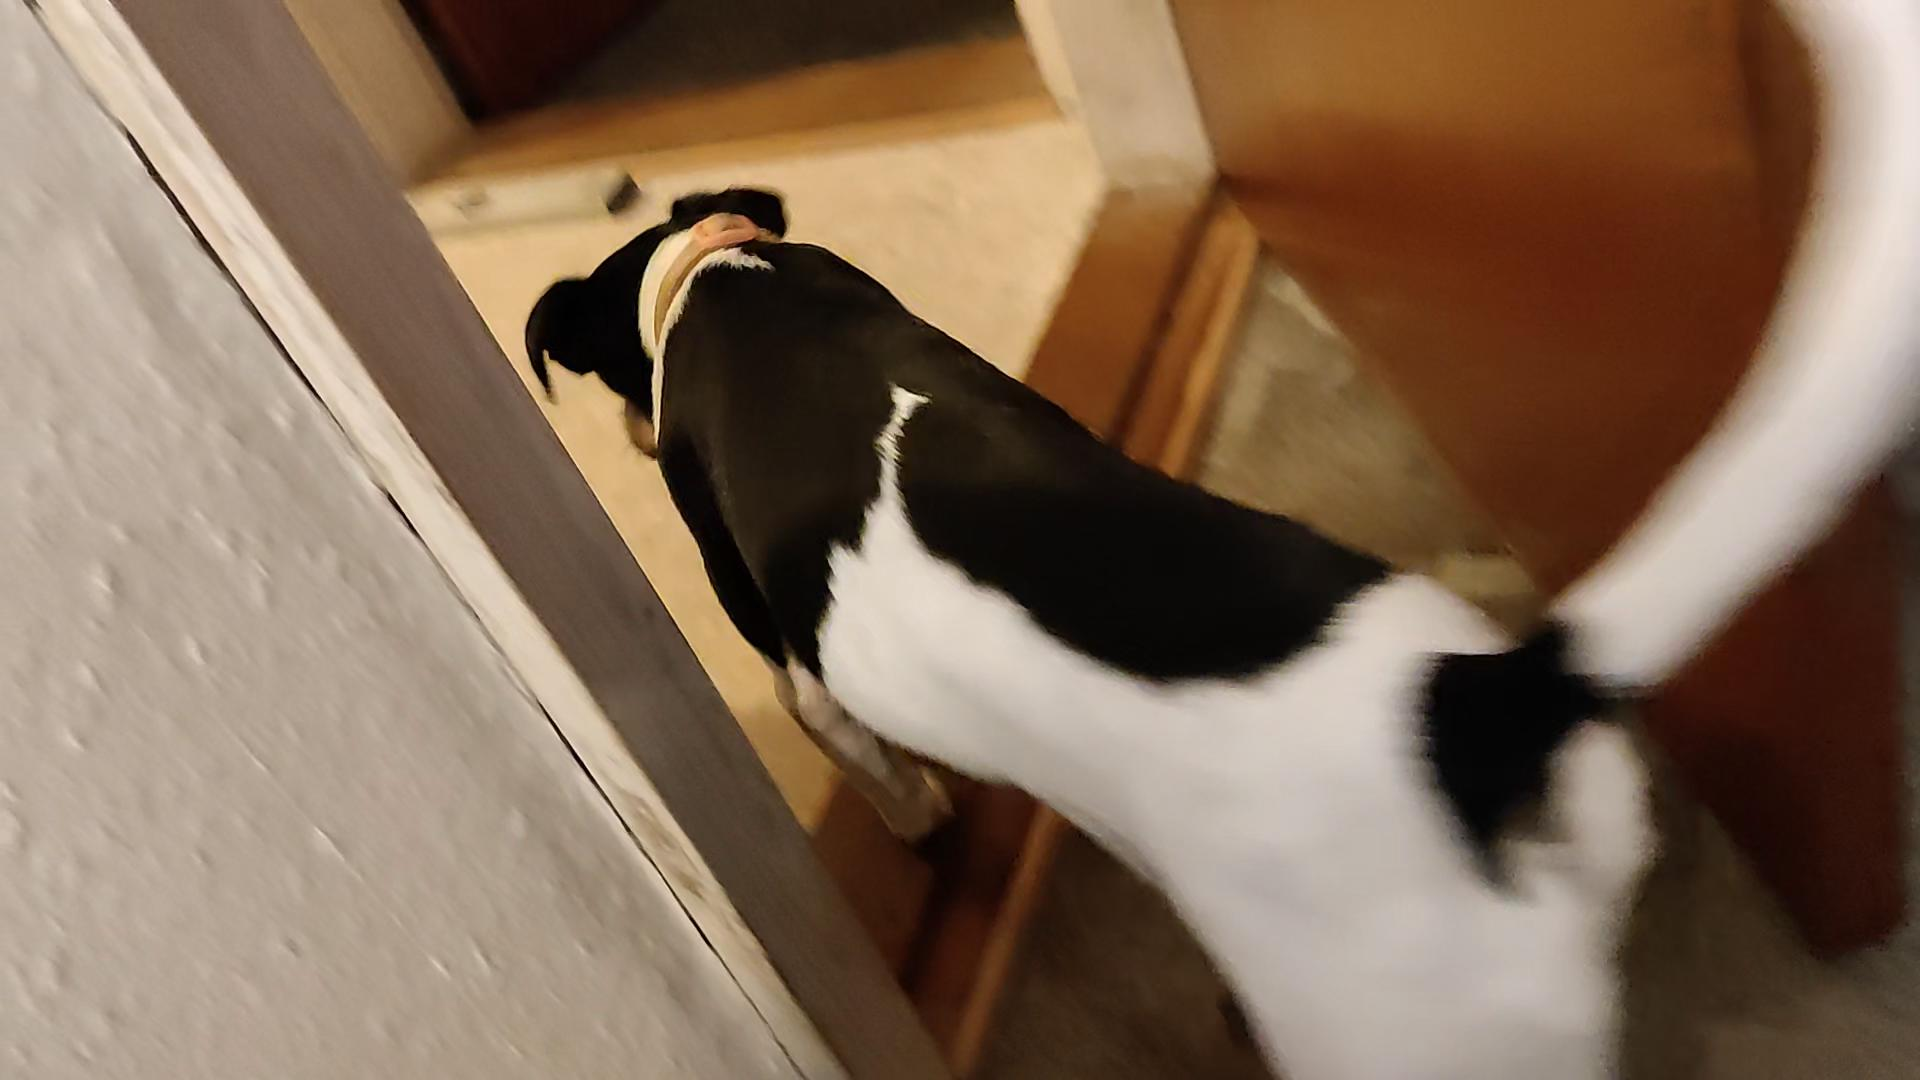Dog: (520, 0, 1919, 1080)
